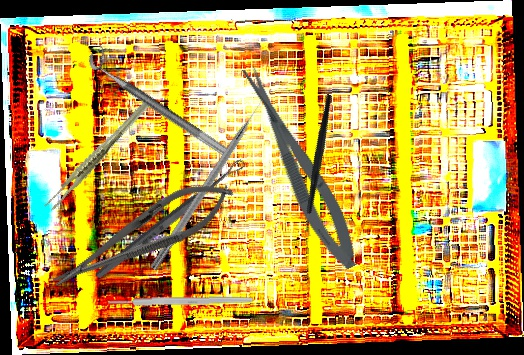Chopper: (259, 92, 381, 239)
Fixation Ring: (84, 43, 236, 157)
Hook Surgical: (148, 94, 270, 273)
Micro Scissor: (234, 57, 367, 277)
Needle Holder: (43, 167, 242, 303)
Scalpel Handle: (107, 295, 254, 307)
Surgical Spoon: (92, 157, 248, 282)
Tissue Forceps: (28, 95, 171, 214)
